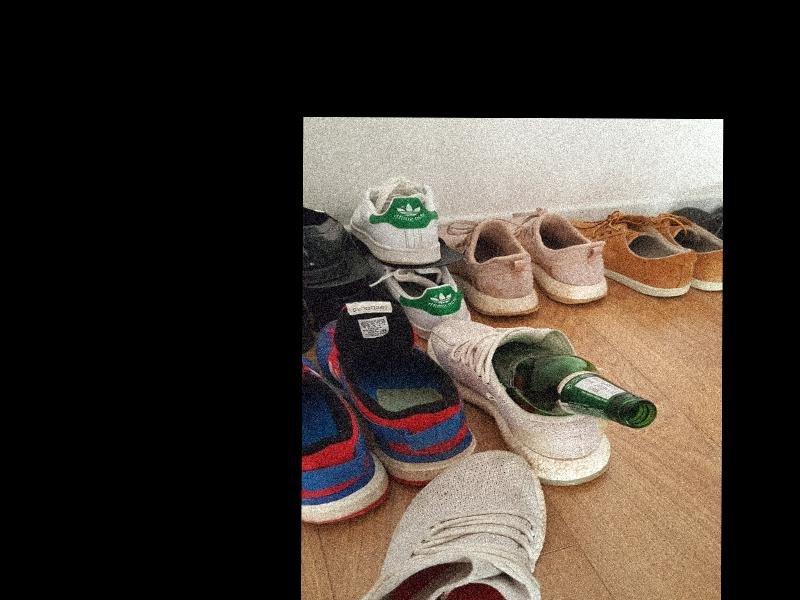Beer: (490, 338, 657, 428)
